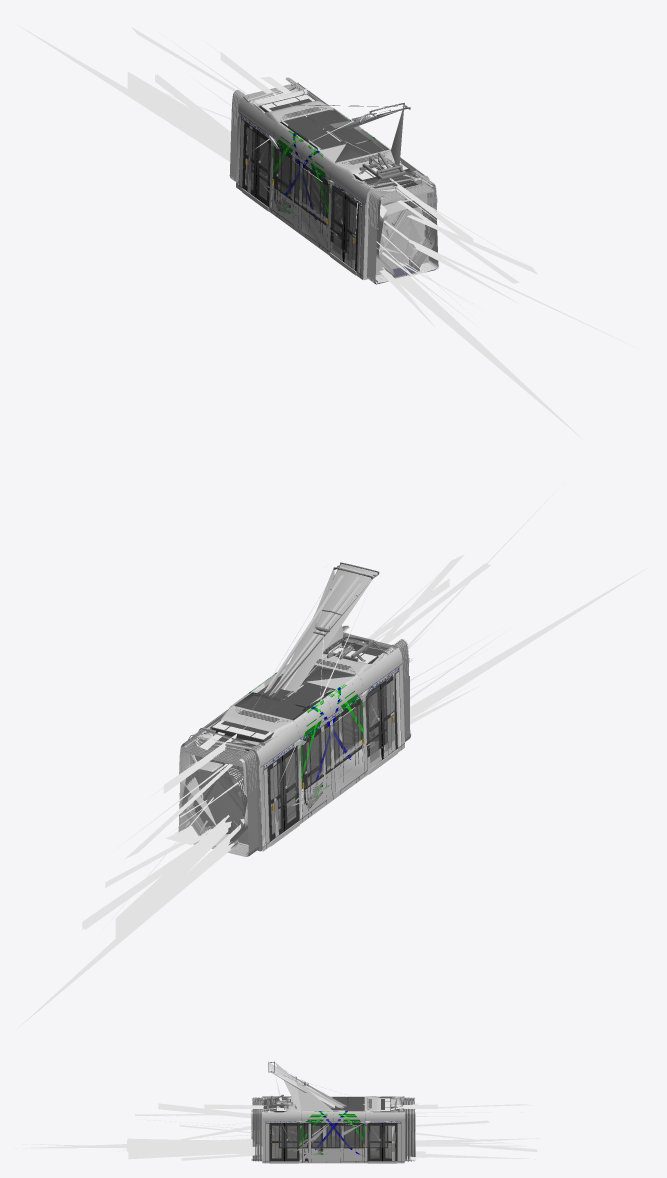
Rendered from tram.glb.
The picture shows the model from 3 angles, top to bottom: view 1: azimuth 30°, elevation 25°; view 2: azimuth 150°, elevation 25°; view 3: azimuth 270°, elevation 25°; orthographic projection. The views are drawn at different scales.
Parts seen in each view (by area): view 1: tram_s1, tram_s2, tram_s0; view 2: tram_s1, tram_s0, tram_s2; view 3: tram_s1, tram_s2, tram_s0.
Boxes of the visible parts, x1,y1,x2,y2 form: tram_s1: (127,27,537,328); tram_s2: (264,100,642,440); tram_s0: (16,24,401,253); tram_s1: (82,554,510,938); tram_s0: (15,653,374,1030); tram_s2: (219,475,648,822); tram_s1: (127,1060,540,1163); tram_s2: (14,1096,380,1163); tram_s0: (284,1097,442,1163).
Bounding box in the file's own units: 2.65 × 5.75 × 36.53.
